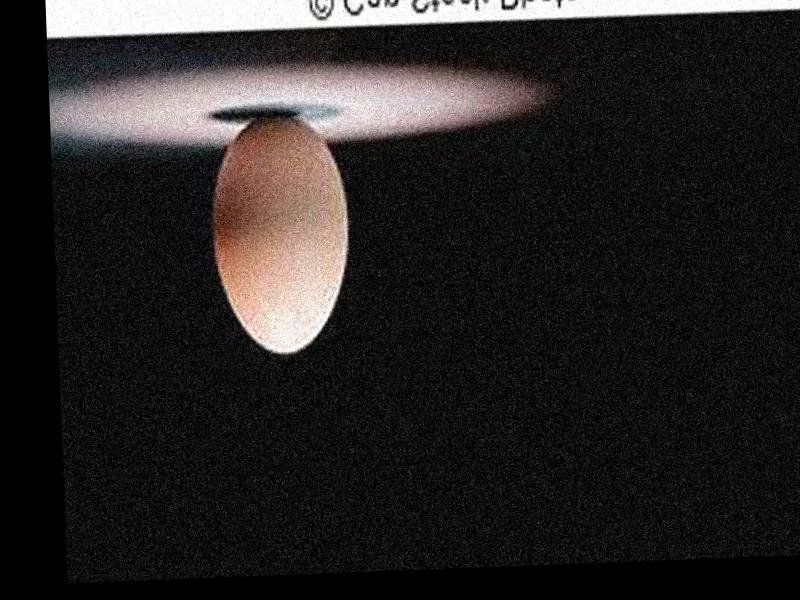Eggs: (205, 109, 352, 355)
